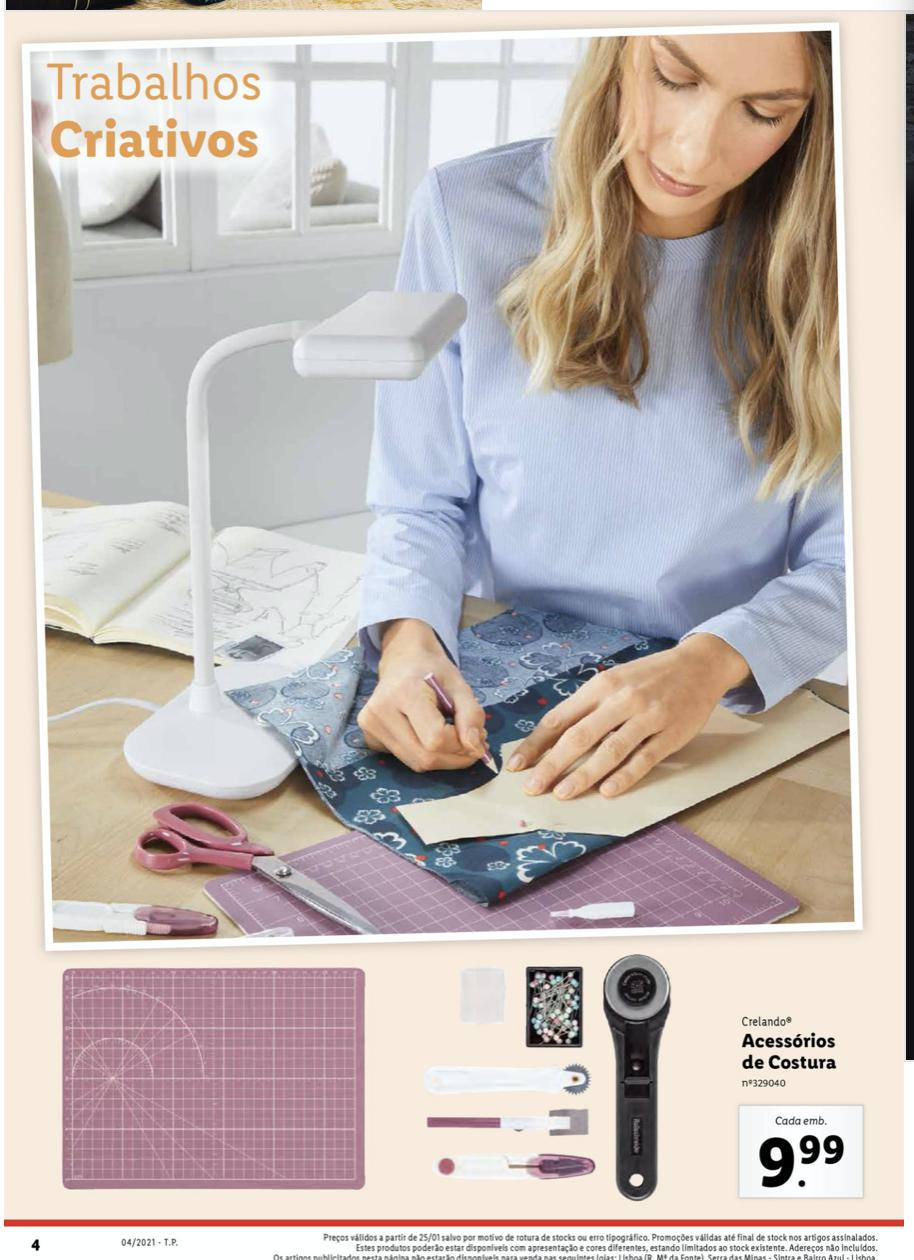name: (730, 1029, 852, 1081)
price: (749, 1131, 853, 1195)
product: (35, 935, 896, 1231)
